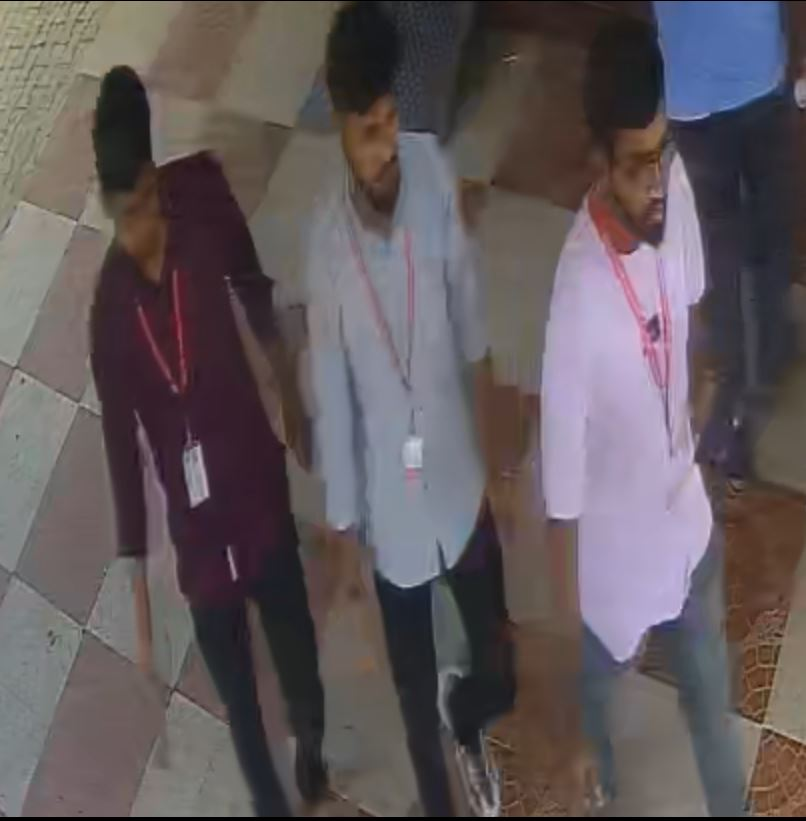not intruder: (71, 60, 355, 810), (296, 11, 530, 819), (547, 13, 747, 821)
